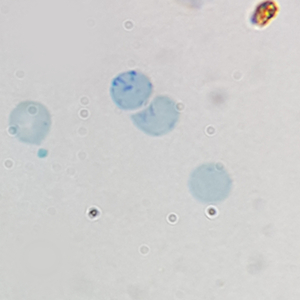aggregate reticulocyte: (108, 69, 155, 112)
punctate reticulocyte: (130, 93, 183, 138), (6, 98, 54, 147), (187, 160, 234, 206)
